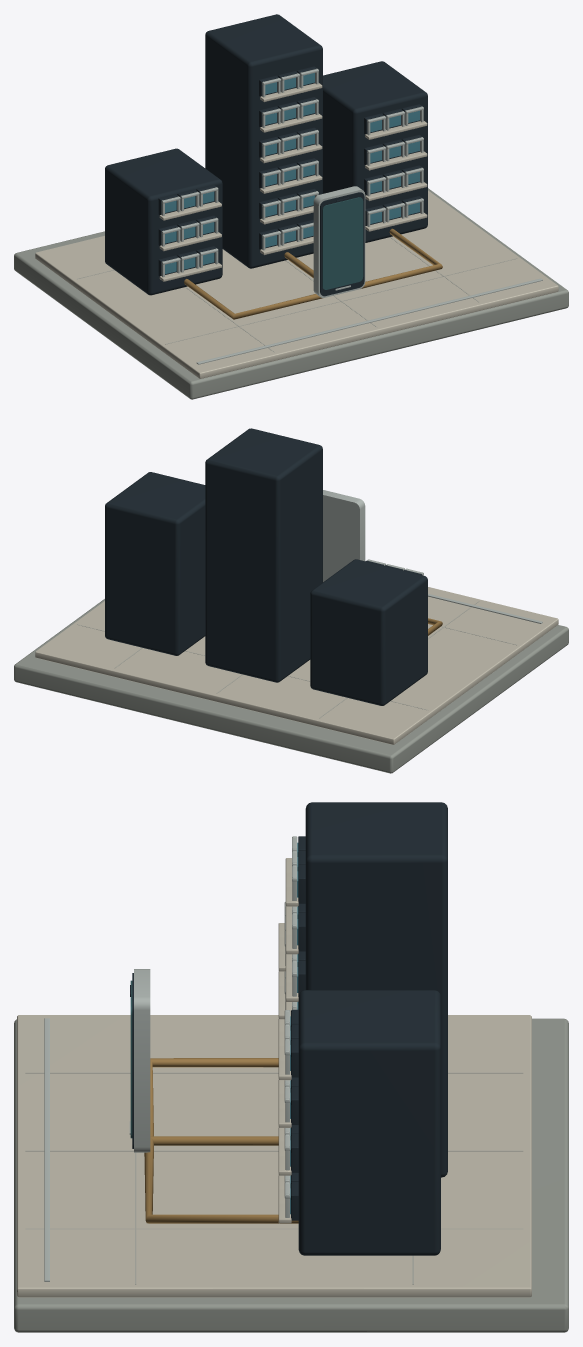
The model's file is idea-fbb201dd.glb.
3 renders of one model, top to bottom at view 1: azimuth 30°, elevation 25°; view 2: azimuth 150°, elevation 25°; view 3: azimuth 270°, elevation 25°, orthographic. The views are drawn at different scales.
Parts seen in each view (by area): view 1: Personal Distributed Compute; view 2: Personal Distributed Compute; view 3: Personal Distributed Compute.
Part boxes in pixels (bbox=[...]): Personal Distributed Compute: bbox=[14, 14, 568, 399]; Personal Distributed Compute: bbox=[14, 428, 568, 773]; Personal Distributed Compute: bbox=[14, 802, 568, 1332].
Size of the model in its own units: 4.8 by 2.8 by 3.9.
